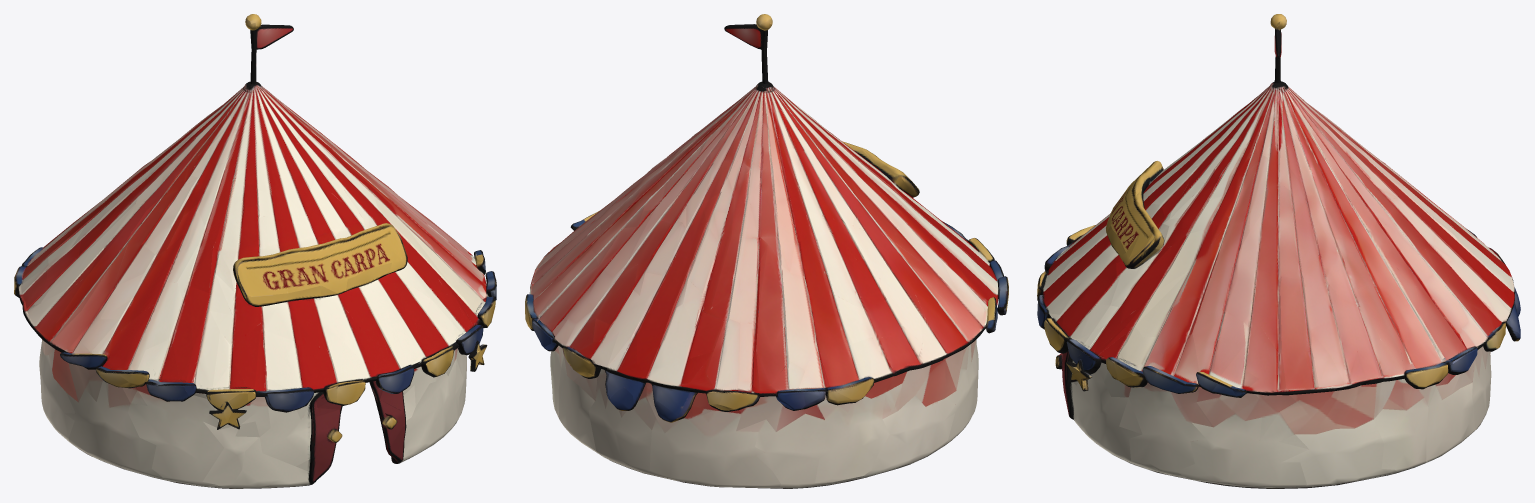
File: carpa.glb
3 views of the same model, side by side, from view 1: azimuth 30°, elevation 25°; view 2: azimuth 150°, elevation 25°; view 3: azimuth 270°, elevation 25° (orthographic).
Size of the model in its own units: 1.9 by 1.67 by 1.89.
Materials: 1 (1 with a texture image).
